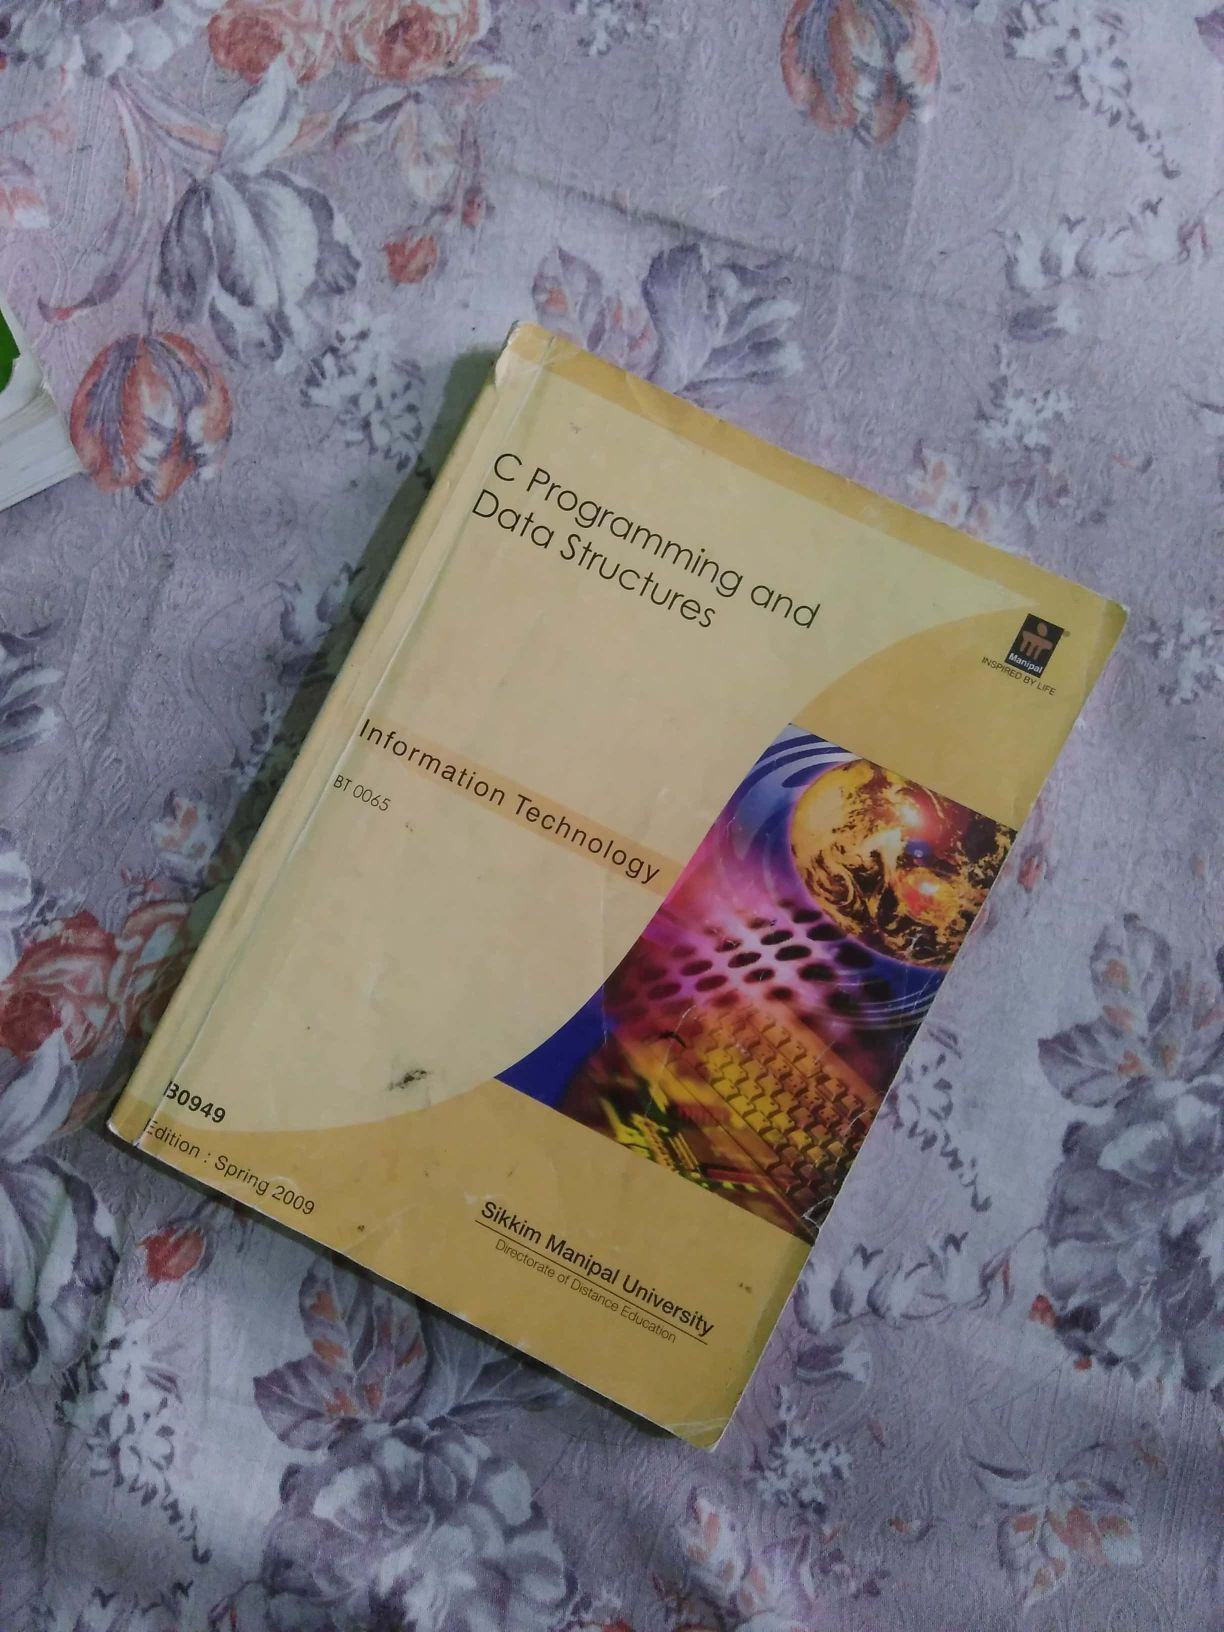clang: (170, 319, 1129, 1441)
